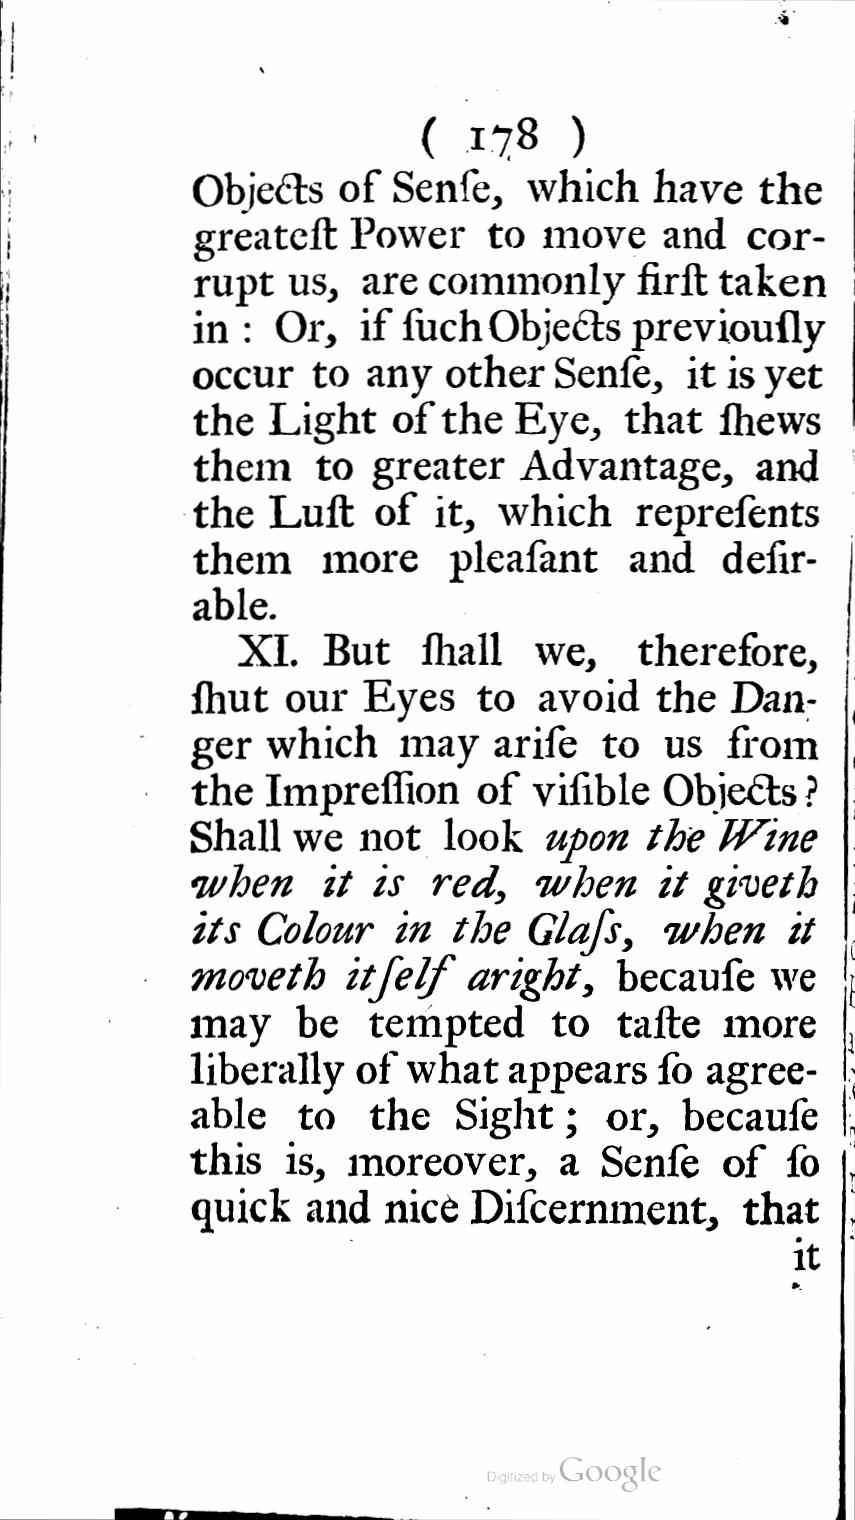bottom_p: (190, 166, 828, 624)
catchword: (788, 1234, 824, 1276)
page_num: (466, 112, 540, 158)
top_p: (188, 626, 826, 1232)
